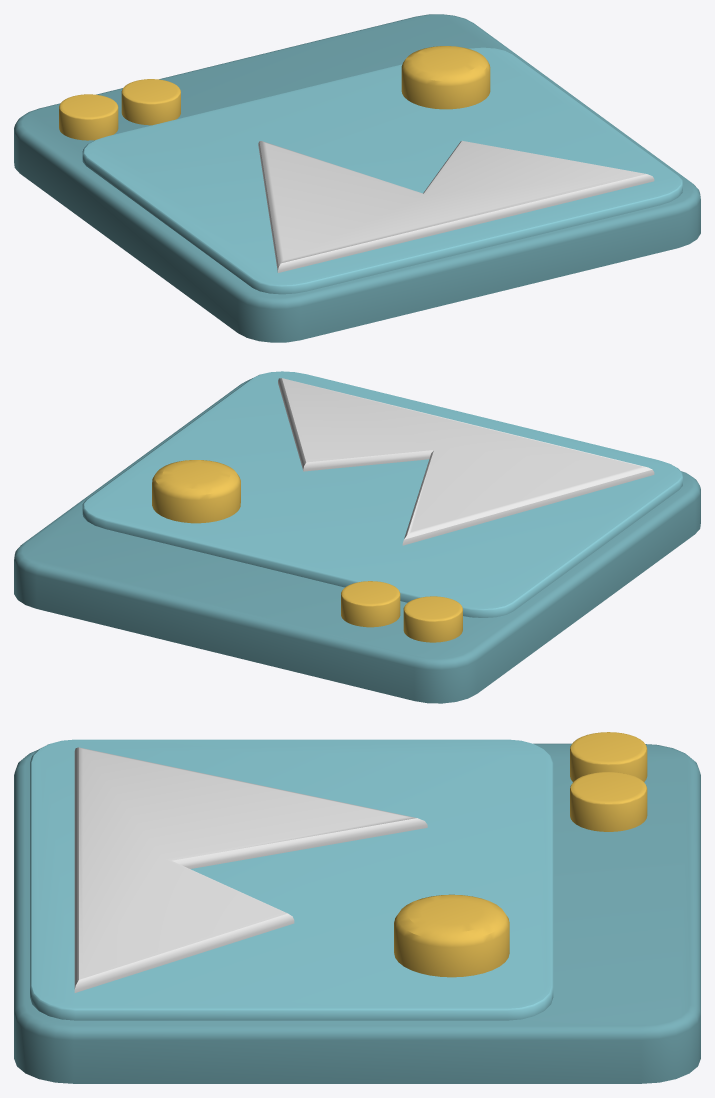
The model's file is Calendar_forget_me_not.glb.
The picture shows the model from 3 angles, top to bottom: view 1: azimuth 30°, elevation 25°; view 2: azimuth 150°, elevation 25°; view 3: azimuth 270°, elevation 25°; orthographic projection. The views are drawn at different scales.
Parts seen in each view (by area): view 1: Cube; view 2: Cube; view 3: Cube.
Boxes of the visible parts, <box> form: Cube: <box>14,14,700,342</box>; Cube: <box>14,371,700,703</box>; Cube: <box>14,732,700,1083</box>.
Size of the model in its own units: 2 by 0.3396 by 2.
